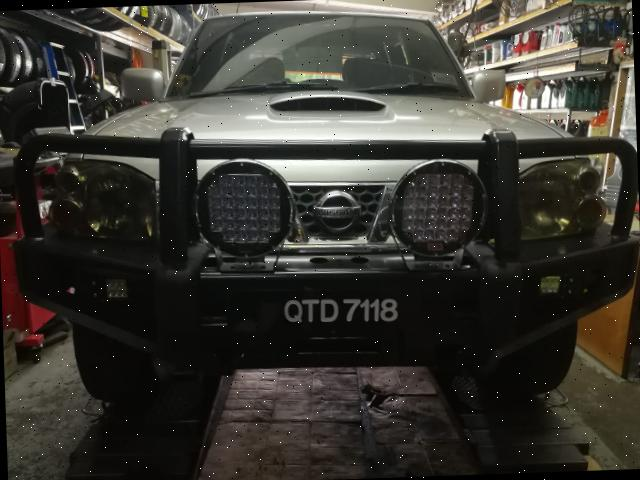License_Plate: (261, 283, 422, 340)
car: (7, 1, 640, 432)
